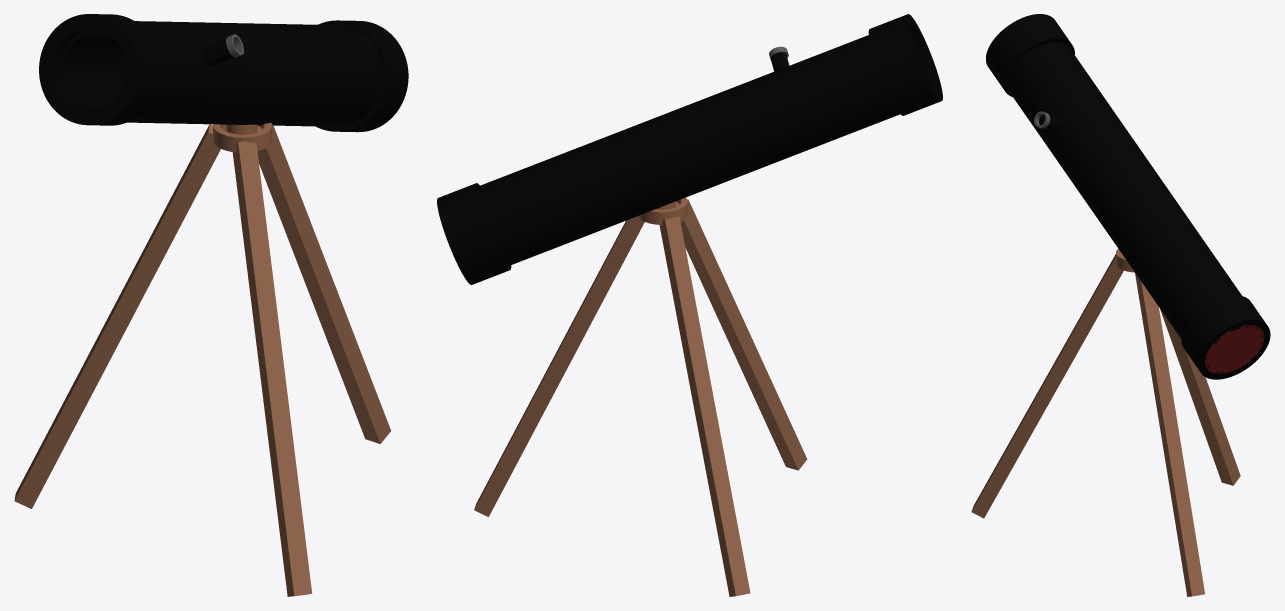
Rendered from TelescopeWithTripod.fbx.
3 renders of one model, left to right at view 1: azimuth 30°, elevation 25°; view 2: azimuth 150°, elevation 25°; view 3: azimuth 270°, elevation 25°, orthographic. The views are drawn at different scales.
Visible parts, largest first — view 1: node_id47 (×3), node_id52 (×4), node_id49; view 2: node_id47 (×2), node_id52 (×4), node_id49; view 3: node_id47 (×2), node_id52 (×3), node_id49, node_id74.
Boxes of the visible parts, x1,y1,x2,y2 form: node_id47 (×3): (39,14,382,126); node_id52 (×4): (14,122,390,596); node_id49: (316,20,408,132); node_id47 (×2): (476,14,942,266); node_id52 (×4): (474,197,807,596); node_id49: (437,183,511,284); node_id47 (×2): (986,14,1241,338); node_id52 (×3): (971,254,1240,596); node_id49: (1181,295,1270,379); node_id74: (1205,325,1264,373).
Size of the model in its own units: 0.9515 by 1.16 by 0.7079.
Materials: 8 (4 with a texture image).
